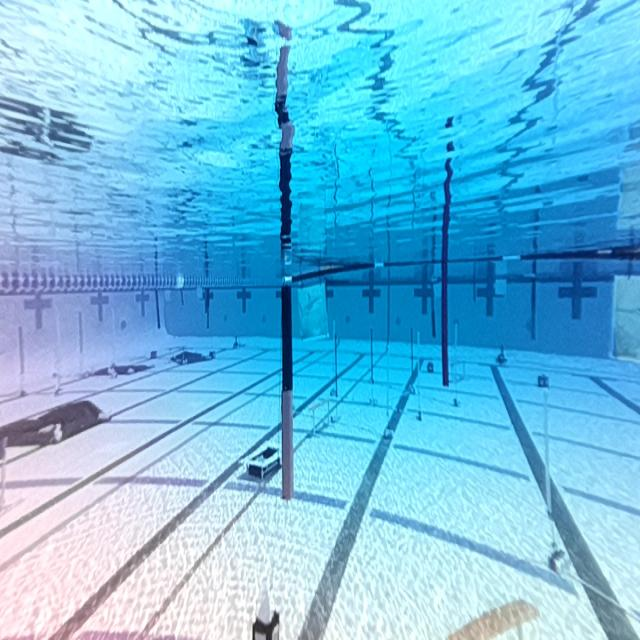round_nose: (299, 285, 325, 335)
